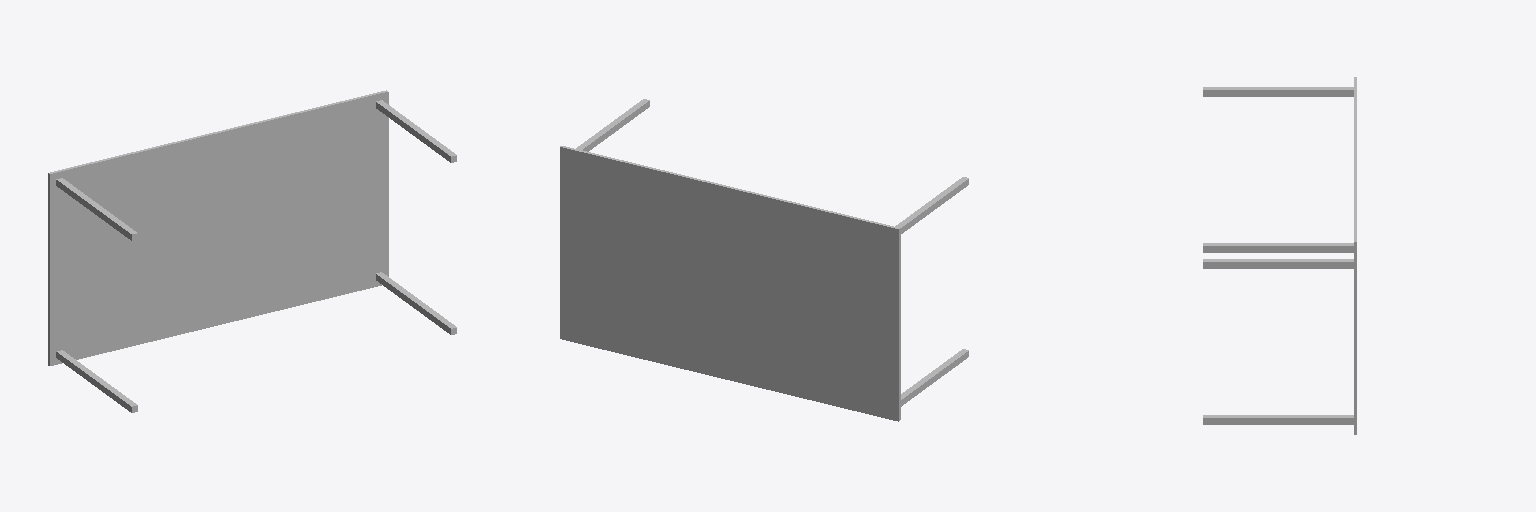
The model's file is random_table88.obj.
The picture shows the model from 3 angles: view 1: azimuth 30°, elevation 25°; view 2: azimuth 150°, elevation 25°; view 3: azimuth 270°, elevation 25°; orthographic projection.
Parts seen in each view (by area): view 1: Table_Cube.1505, TableLeg1_Cube.1507, TableLeg3_Cube.1509, TableLeg0_Cube.1506, TableLeg2_Cube.1508; view 2: Table_Cube.1505, TableLeg1_Cube.1507, TableLeg3_Cube.1509, TableLeg0_Cube.1506; view 3: TableLeg0_Cube.1506, TableLeg1_Cube.1507, TableLeg2_Cube.1508, TableLeg3_Cube.1509, Table_Cube.1505.
Part boxes in pixels (bbox=[...]): Table_Cube.1505: bbox=[48, 90, 388, 365]; TableLeg1_Cube.1507: bbox=[56, 178, 137, 240]; TableLeg3_Cube.1509: bbox=[56, 350, 137, 412]; TableLeg0_Cube.1506: bbox=[376, 100, 456, 162]; TableLeg2_Cube.1508: bbox=[376, 272, 456, 334]; Table_Cube.1505: bbox=[560, 146, 900, 421]; TableLeg1_Cube.1507: bbox=[895, 177, 968, 233]; TableLeg3_Cube.1509: bbox=[901, 349, 968, 406]; TableLeg0_Cube.1506: bbox=[576, 99, 649, 151]; TableLeg0_Cube.1506: bbox=[1203, 243, 1353, 252]; TableLeg1_Cube.1507: bbox=[1203, 87, 1353, 96]; TableLeg2_Cube.1508: bbox=[1203, 415, 1353, 424]; TableLeg3_Cube.1509: bbox=[1203, 259, 1353, 268]; Table_Cube.1505: bbox=[1354, 77, 1356, 434].
Size of the model in its own units: 12.65 by 6.87 by 5.